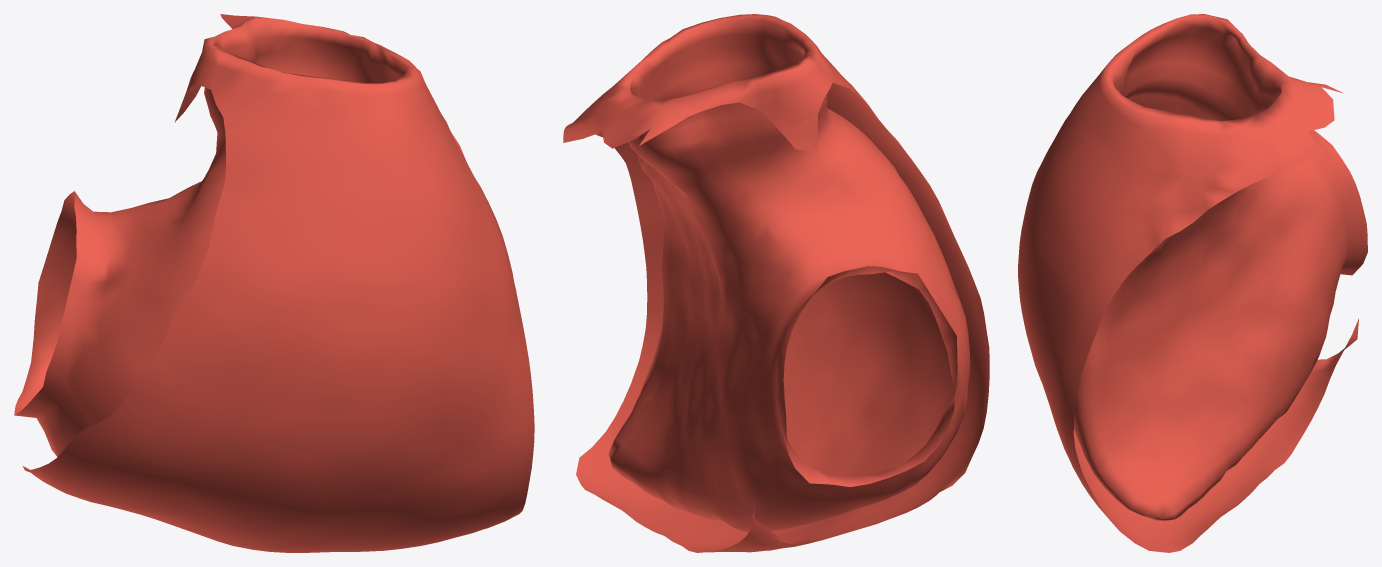
Rendered from rightventricle.glb.
3 renders of one model, left to right at view 1: azimuth 30°, elevation 25°; view 2: azimuth 150°, elevation 25°; view 3: azimuth 270°, elevation 25°, orthographic. The views are drawn at different scales.
Visible parts, largest first — view 1: Rightventricle.006; view 2: Rightventricle.006; view 3: Rightventricle.006.
Part boxes in pixels (x1,y1,x2,y2): Rightventricle.006: (14, 14, 534, 552); Rightventricle.006: (563, 14, 989, 552); Rightventricle.006: (1018, 14, 1367, 552).
Size of the model in its own units: 2.55 by 2.85 by 2.06.
